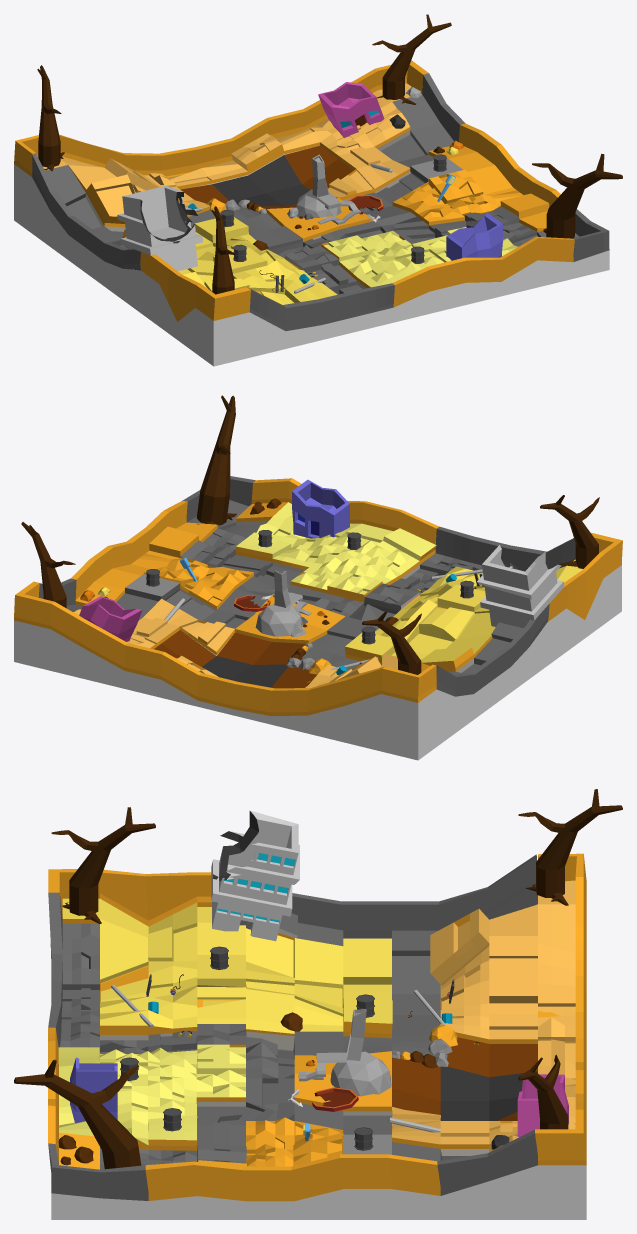
File: TERRENO 3 APOCALIPTICO (2).fbx
The picture shows the model from 3 angles, top to bottom: view 1: azimuth 30°, elevation 25°; view 2: azimuth 150°, elevation 25°; view 3: azimuth 270°, elevation 25°; orthographic projection. The views are drawn at different scales.
Visible parts, largest first — view 1: DESIERTO, CAMINO, BASE TERRENO, ARBOL 4 TRONCO, EDIFICIO, LAGO, CASA 2, CASA 1, Cube.001; view 2: DESIERTO, CAMINO, BASE TERRENO, ARBOL 4 TRONCO, LAGO, EDIFICIO, CASA 1, Cube.001, CASA 2; view 3: DESIERTO, CAMINO, BASE TERRENO, ARBOL 4 TRONCO, LAGO, EDIFICIO, Cube.001, CASA 1, CASA 2, RELOJ.002.
Boxes of the visible parts, x1,y1,x2,y2 form: DESIERTO: [14, 60, 574, 321]; CAMINO: [32, 73, 609, 331]; BASE TERRENO: [14, 148, 609, 366]; ARBOL 4 TRONCO: [37, 14, 622, 294]; EDIFICIO: [117, 185, 202, 270]; LAGO: [180, 146, 353, 210]; CASA 2: [318, 82, 384, 137]; CASA 1: [446, 212, 502, 260]; Cube.001: [295, 154, 360, 224]; DESIERTO: [14, 478, 622, 715]; CAMINO: [38, 476, 575, 696]; BASE TERRENO: [14, 565, 621, 760]; ARBOL 4 TRONCO: [21, 395, 599, 674]; LAGO: [154, 630, 316, 688]; EDIFICIO: [477, 545, 564, 628]; CASA 1: [292, 479, 349, 538]; Cube.001: [255, 570, 311, 636]; CASA 2: [79, 596, 142, 641]; DESIERTO: [48, 853, 586, 1201]; CAMINO: [48, 854, 537, 1200]; BASE TERRENO: [51, 904, 586, 1219]; ARBOL 4 TRONCO: [14, 789, 622, 1169]; LAGO: [392, 1037, 537, 1120]; EDIFICIO: [211, 810, 299, 941]; Cube.001: [298, 1009, 391, 1096]; CASA 1: [70, 1057, 117, 1123]; CASA 2: [517, 1074, 568, 1137]; RELOJ.002: [312, 1087, 358, 1111].
Size of the model in its own units: 848 by 276 by 801.
